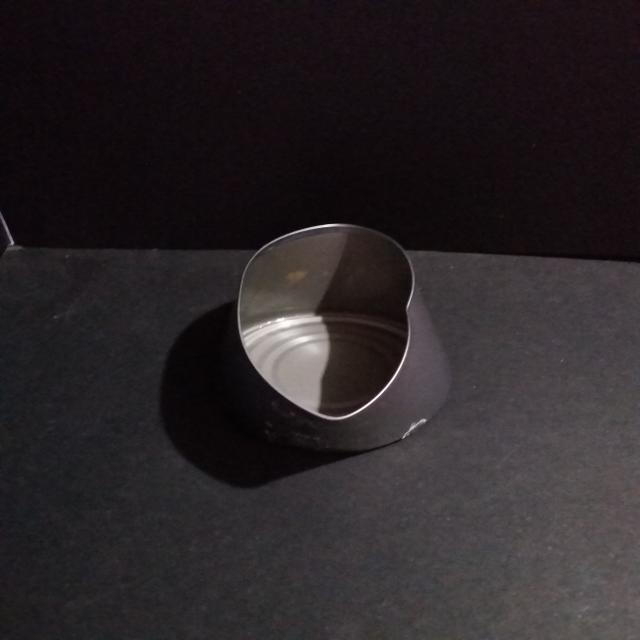metal-can: (236, 220, 452, 457)
